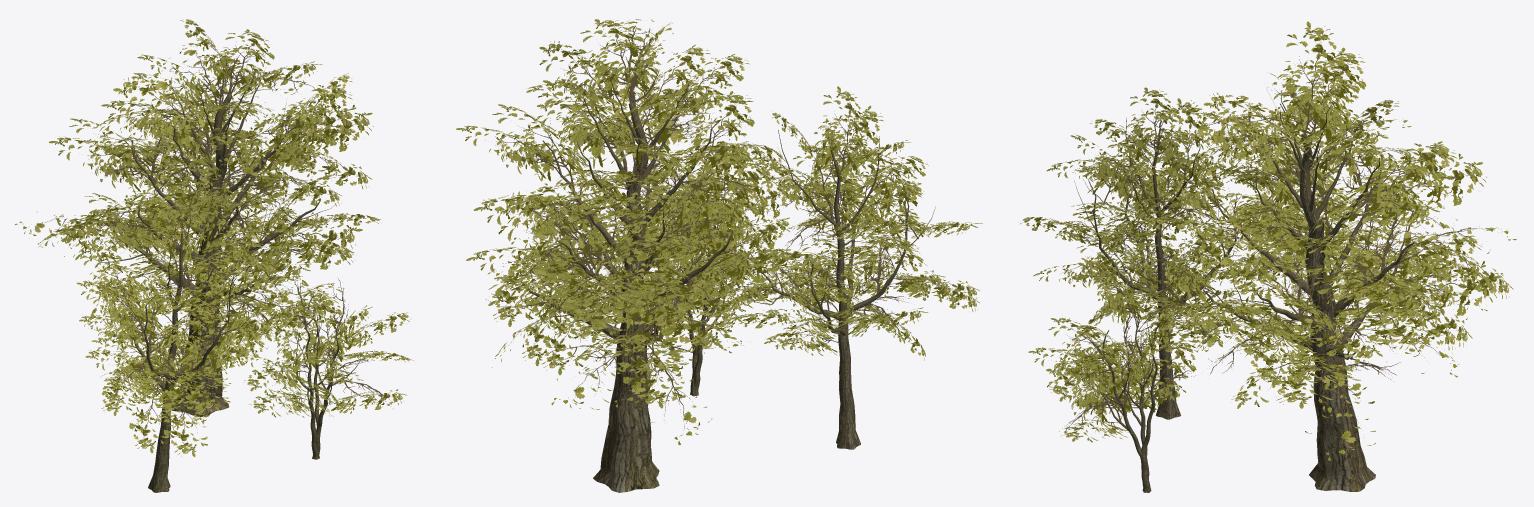
Rendered from oak.glb.
3 renders of one model, left to right at view 1: azimuth 30°, elevation 25°; view 2: azimuth 150°, elevation 25°; view 3: azimuth 270°, elevation 25°, orthographic. The views are drawn at different scales.
Visible parts, largest first — view 1: treelarge, Treemedium, leafplanes_4_23, leafplanes_4_7, leafplanes_4_39, leafplanes_10_3, Treesmall, leafplanes_4_13_2, leafplanes_3, leafplanes_4_13_3_40_2, leafplanes_4_13_3_67, leafplanes_4_55 (+74 smaller); view 2: treelarge, Treemedium, leafplanes_10_195, leafplanes_4_13, leafplanes_10_177, leafplanes_4_38, leafplanes_4_6, leafplanes_10_108, leafplanes_10_117, leafplanes_10_9, leafplanes_4_55, leafplanes_4_58 (+69 smaller); view 3: treelarge, Treemedium, leafplanes_4_13_3, Treesmall, leafplanes_4_60, leafplanes_4_13_1, leafplanes_4_52, leafplanes_10_93_1, leafplanes_4_41, leafplanes_10_78, leafplanes_10_114, leafplanes_4_37 (+75 smaller).
Part boxes in pixels (x1,y1,x2,y2): treelarge: (80,53,338,416); Treemedium: (123,189,255,492); leafplanes_4_23: (113,77,214,156); leafplanes_4_7: (260,212,362,266); leafplanes_4_39: (222,102,326,168); leafplanes_10_3: (152,150,221,217); Treesmall: (288,292,374,459); leafplanes_4_13_2: (209,29,274,93); leafplanes_3: (66,195,168,249); leafplanes_4_13_3_40_2: (156,384,212,457); leafplanes_4_13_3_67: (128,377,181,453); leafplanes_4_55: (253,106,356,170); treelarge: (485,56,760,492); Treemedium: (740,130,935,449); leafplanes_10_195: (616,325,692,408); leafplanes_4_13: (580,19,661,99); leafplanes_10_177: (493,243,578,326); leafplanes_4_38: (631,271,731,353); leafplanes_4_6: (494,191,611,287); leafplanes_10_108: (598,165,675,236); leafplanes_10_117: (522,277,607,366); leafplanes_10_9: (663,148,750,232); leafplanes_4_55: (538,78,635,171); leafplanes_4_58: (492,104,587,189); treelarge: (1174,87,1435,491); Treemedium: (1074,118,1241,419); leafplanes_4_13_3: (1273,21,1348,134); Treesmall: (1087,311,1162,492); leafplanes_4_60: (1343,144,1454,211); leafplanes_4_13_1: (1288,47,1366,139); leafplanes_4_52: (1365,153,1487,224); leafplanes_10_93_1: (1203,92,1304,165); leafplanes_4_41: (1390,261,1501,323); leafplanes_10_78: (1231,232,1310,300); leafplanes_10_114: (1196,207,1280,277); leafplanes_4_37: (1275,355,1361,408).
Bounding box in the file's own units: 1.97 × 2.04 × 2.08.
2 materials, 2 textured.
